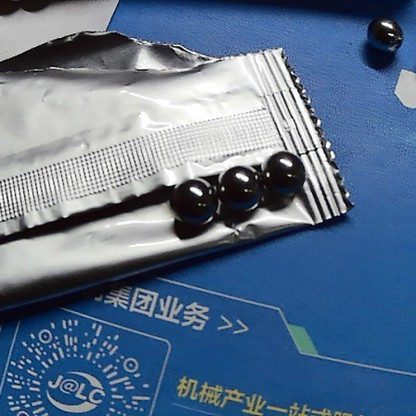ironball: (254, 134, 301, 209), (155, 167, 212, 224), (211, 153, 256, 222), (355, 19, 403, 70)
